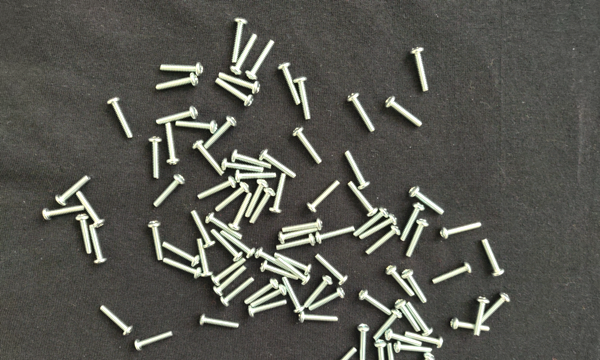longscrew: (385, 95, 429, 128), (347, 93, 379, 133), (346, 177, 378, 217), (229, 35, 258, 77), (248, 39, 277, 81), (344, 149, 375, 188), (293, 128, 324, 167), (95, 305, 134, 335), (148, 176, 185, 207), (160, 241, 204, 267), (217, 67, 261, 93), (256, 249, 300, 275), (132, 331, 176, 356), (440, 217, 484, 242), (430, 261, 474, 286), (159, 56, 203, 81), (214, 81, 258, 106), (393, 299, 423, 335), (189, 208, 214, 251), (159, 259, 202, 284), (155, 71, 198, 96), (407, 301, 437, 336), (193, 139, 221, 176), (57, 174, 89, 206), (206, 117, 236, 151), (277, 248, 312, 277), (408, 186, 443, 215), (383, 267, 418, 296), (212, 258, 248, 286), (307, 183, 343, 211), (276, 258, 312, 286), (225, 194, 252, 231), (316, 254, 349, 284), (364, 227, 402, 253), (221, 278, 256, 306), (214, 267, 249, 295), (261, 151, 296, 179), (110, 97, 133, 139), (371, 311, 402, 341), (212, 185, 249, 210), (401, 203, 426, 240), (399, 269, 426, 303), (283, 277, 308, 313), (360, 215, 397, 239), (354, 209, 389, 234), (359, 289, 390, 317), (231, 148, 274, 168), (244, 180, 267, 217), (199, 311, 241, 331), (156, 104, 198, 124), (176, 117, 218, 137), (147, 220, 166, 264), (145, 138, 164, 182), (227, 19, 246, 63), (484, 236, 503, 280), (192, 178, 236, 197), (249, 189, 272, 225), (222, 231, 255, 256), (163, 124, 182, 167), (252, 284, 289, 306), (212, 231, 240, 260), (208, 213, 240, 238), (90, 223, 108, 267), (75, 214, 93, 258), (413, 48, 431, 92), (406, 221, 428, 257), (303, 278, 331, 306), (245, 281, 279, 304), (281, 62, 299, 105), (295, 77, 313, 120), (472, 295, 490, 338), (195, 240, 215, 278), (357, 319, 375, 360), (262, 262, 299, 281), (309, 291, 345, 309), (279, 227, 321, 242), (405, 334, 447, 349), (393, 342, 435, 357), (234, 168, 276, 183), (248, 302, 290, 317), (271, 175, 287, 213), (281, 219, 323, 233), (316, 228, 358, 242), (274, 236, 316, 250), (298, 311, 340, 325), (450, 320, 492, 334), (383, 332, 425, 346), (222, 161, 263, 175), (372, 338, 390, 360), (386, 341, 399, 360)
